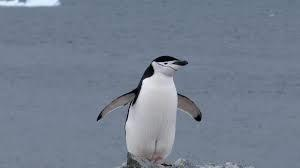chinstrap: (94, 46, 205, 166)
